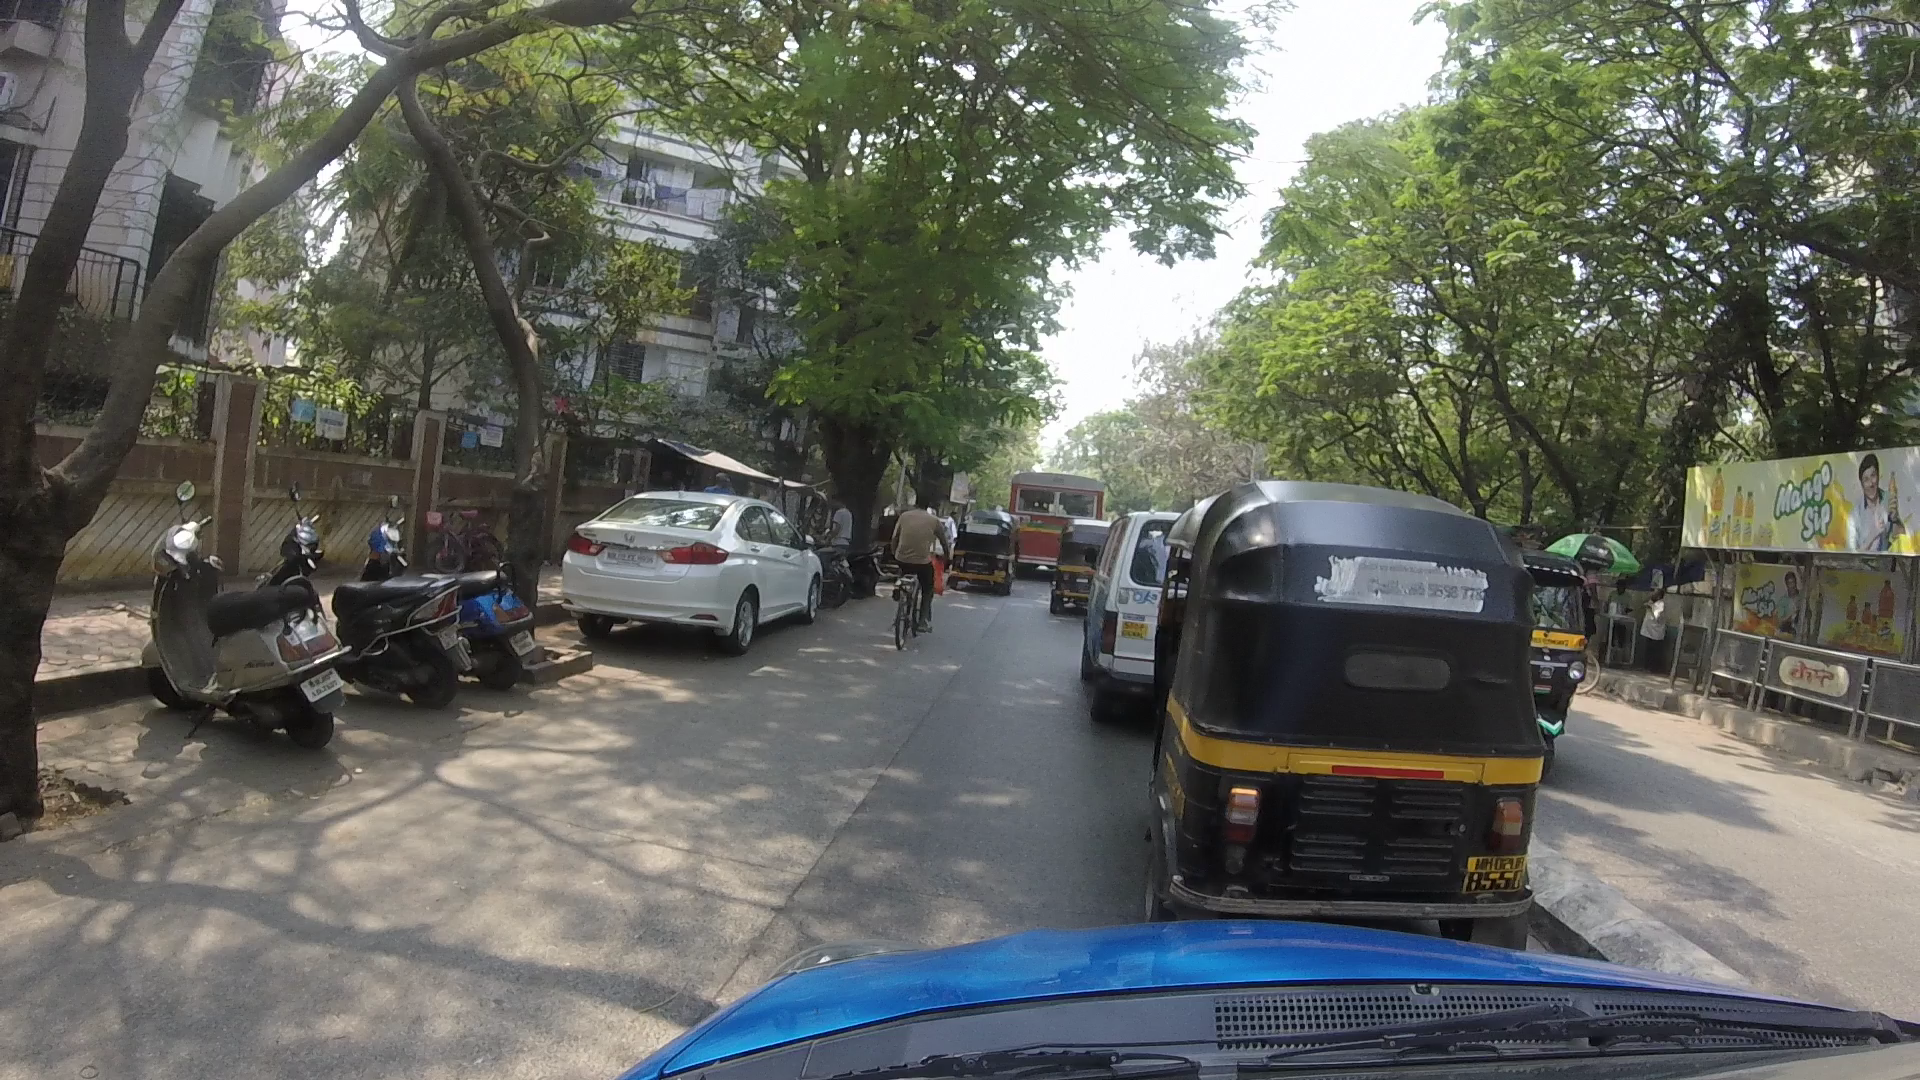bike/scooter: (128, 516, 340, 754), (272, 527, 475, 695), (349, 527, 543, 673)
bus: (1007, 465, 1105, 580)
car: (555, 483, 828, 654), (1081, 506, 1199, 727)
rickshaw: (1158, 480, 1538, 924), (1522, 566, 1593, 709)
